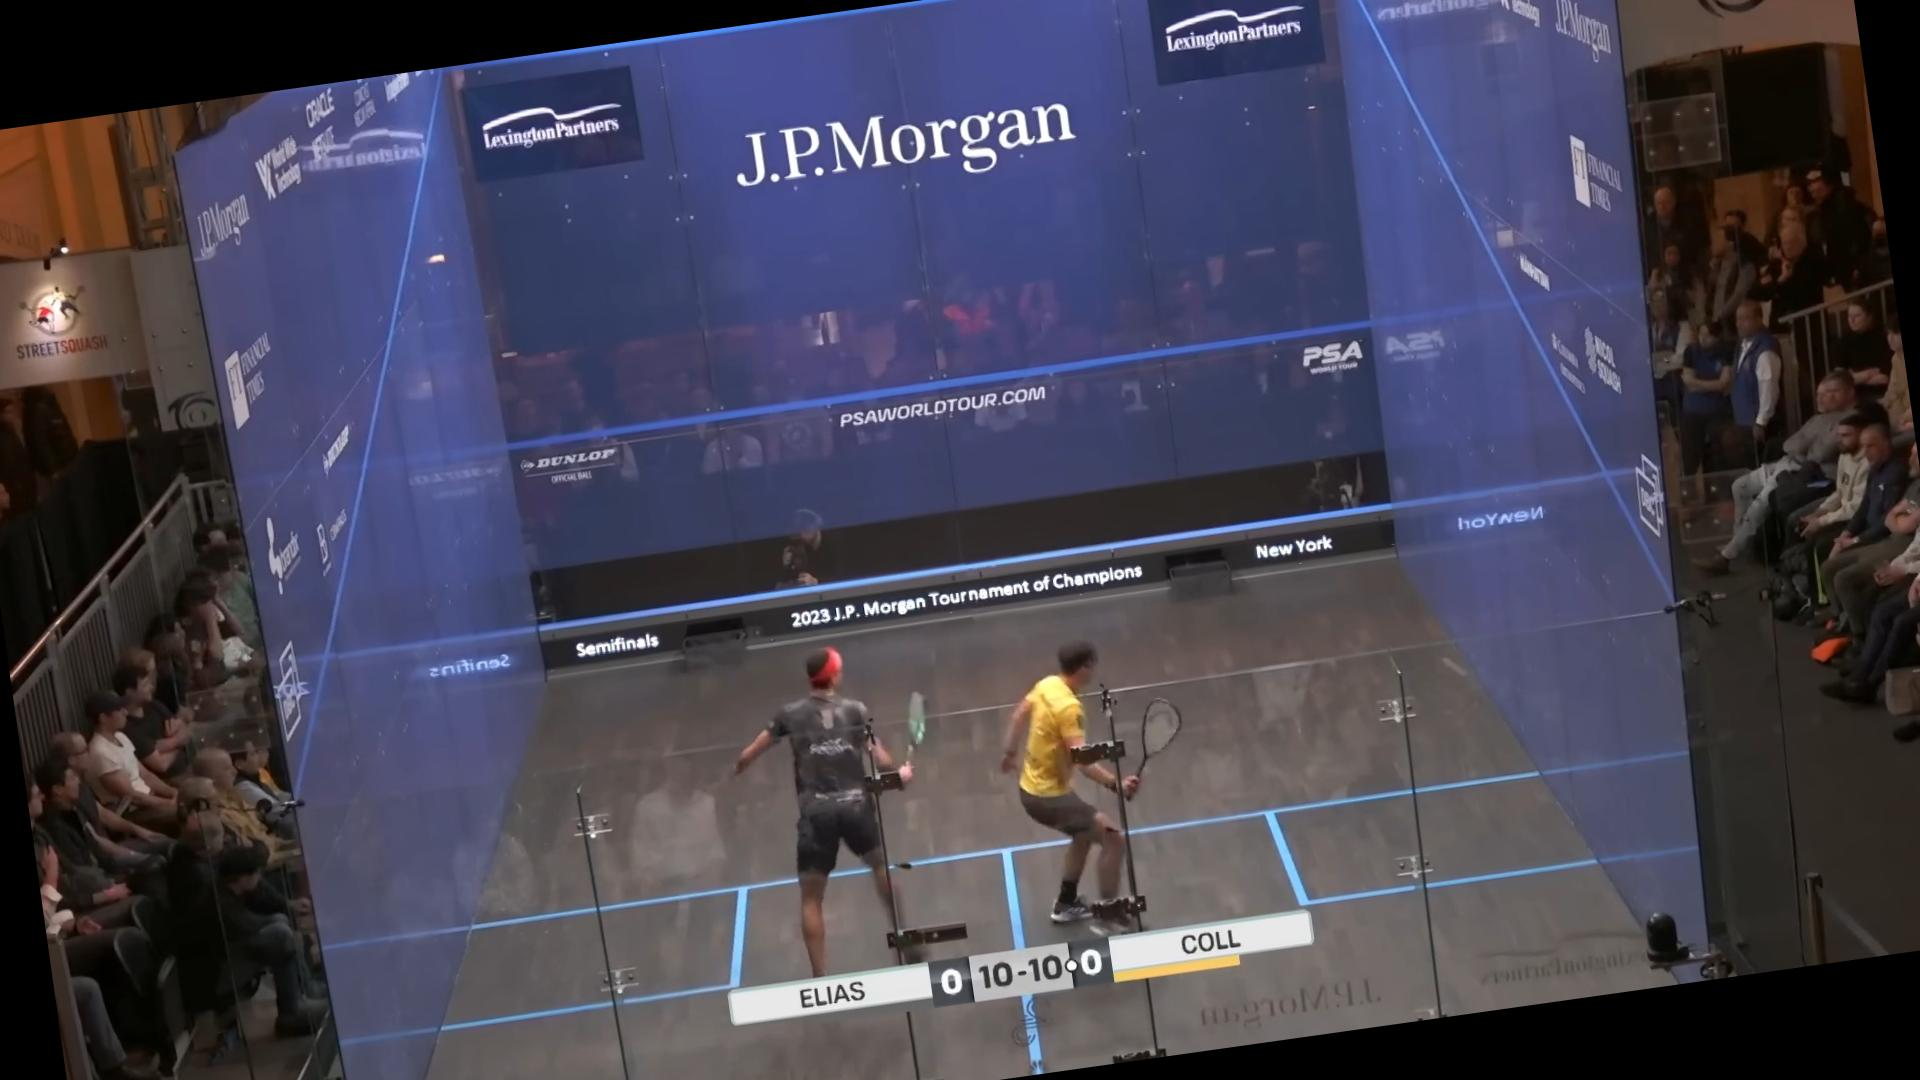Racket: (1118, 686, 1200, 778), (890, 682, 957, 771)
